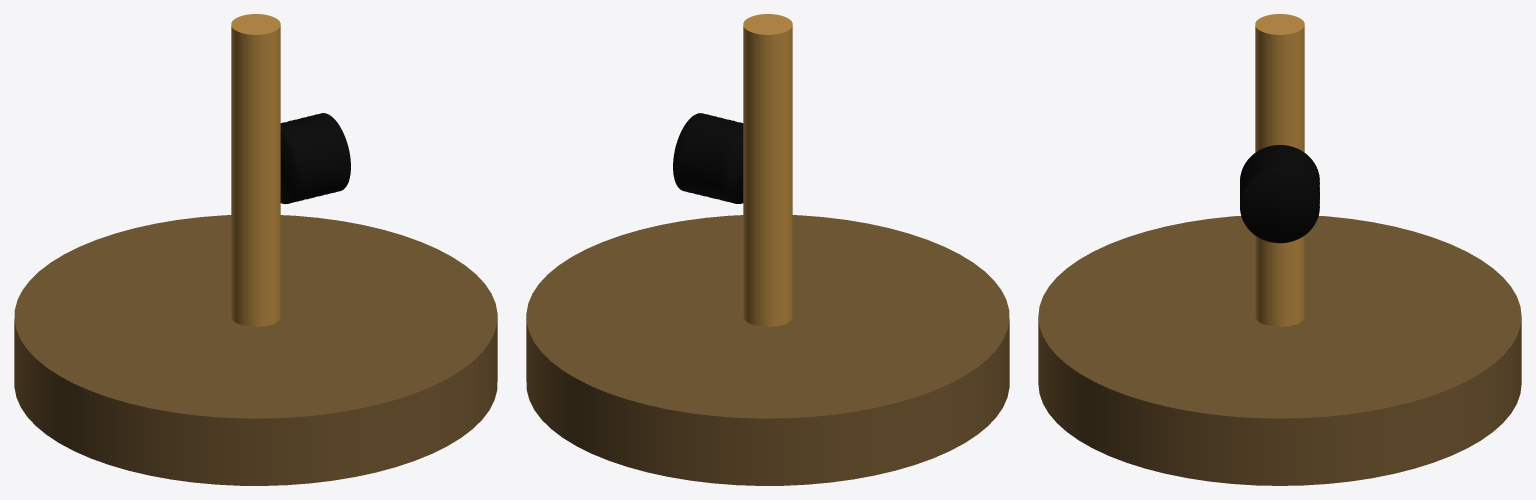
File: sand-globe-base.glb
3 renders of one model, left to right at view 1: azimuth 30°, elevation 25°; view 2: azimuth 150°, elevation 25°; view 3: azimuth 270°, elevation 25°, orthographic.
Parts seen in each view (by area): view 1: weighted_base.001, upright_post.001, side_knob_1.001; view 2: weighted_base.001, upright_post.001, side_knob_1.001; view 3: weighted_base.001, upright_post.001, side_knob_1.001.
Part boxes in pixels (x1,y1,x2,y2): weighted_base.001: (14,215,497,485); upright_post.001: (231,14,280,326); side_knob_1.001: (280,113,350,204); weighted_base.001: (526,215,1009,485); upright_post.001: (743,14,792,326); side_knob_1.001: (673,113,743,203); weighted_base.001: (1038,216,1521,485); upright_post.001: (1255,14,1304,326); side_knob_1.001: (1240,145,1319,243).
Size of the model in its own units: 0.078 by 0.064 by 0.078.
